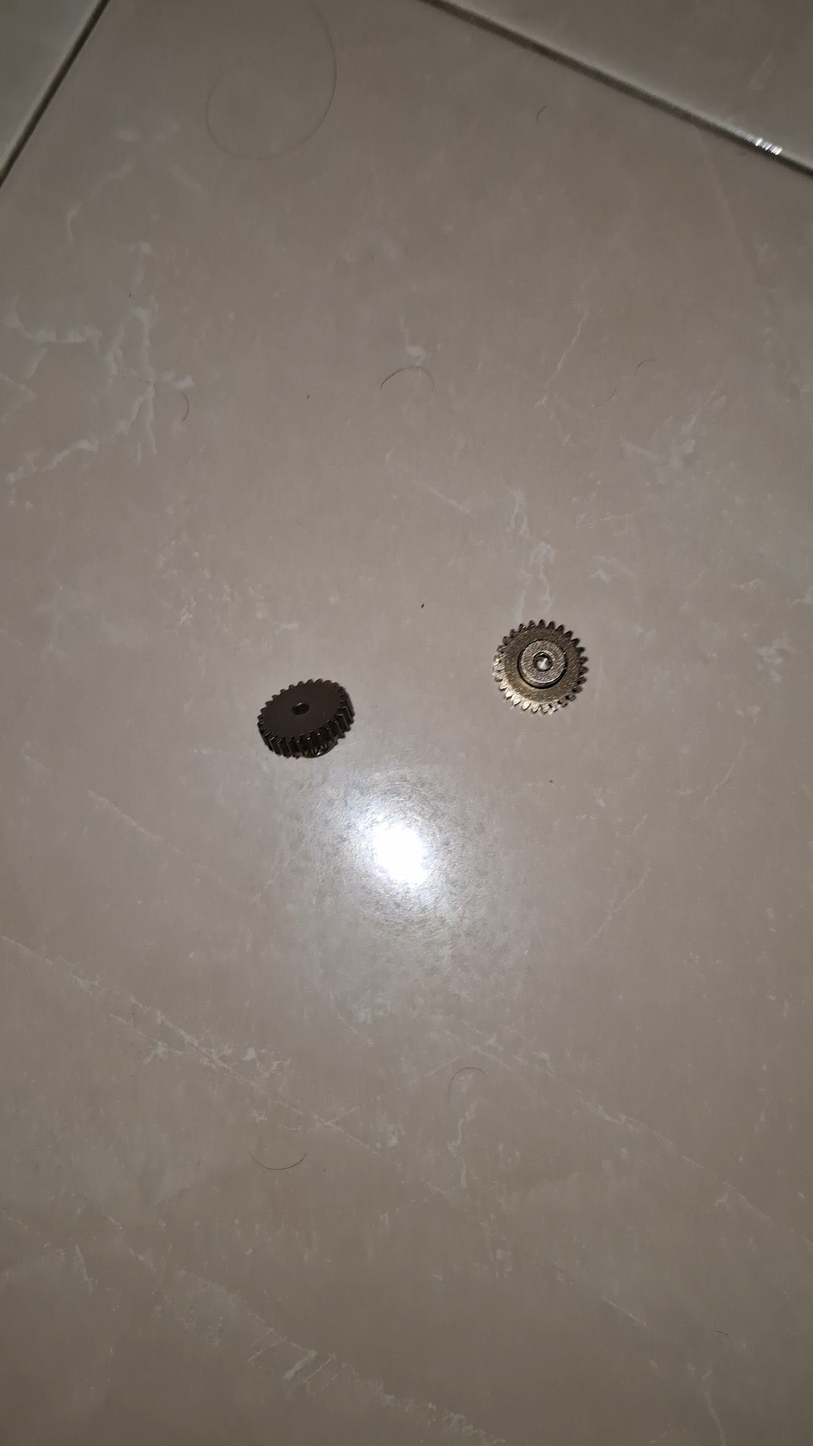spur gear: (494, 622, 586, 712), (258, 680, 354, 758)
